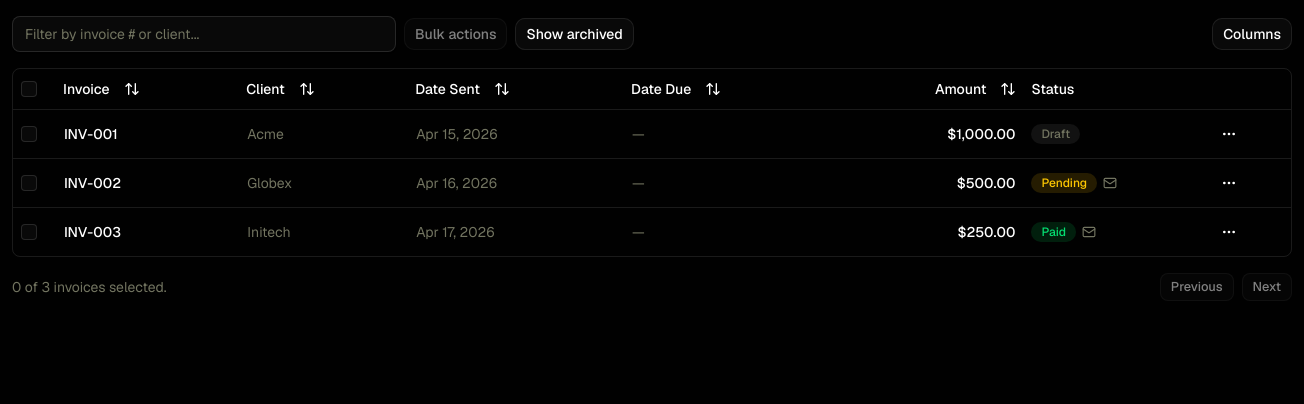
Scenario: InvoiceDataTable — per-row actions › shows 'Edit' and the four publish/send options for draft invoices
The image size is (1304, 404).
# open first row's dropdown (inv-1 is a draft)
Click the button named "open menu" in the row of "INV-001" at [1229, 134], box [1213,118,1245,150]
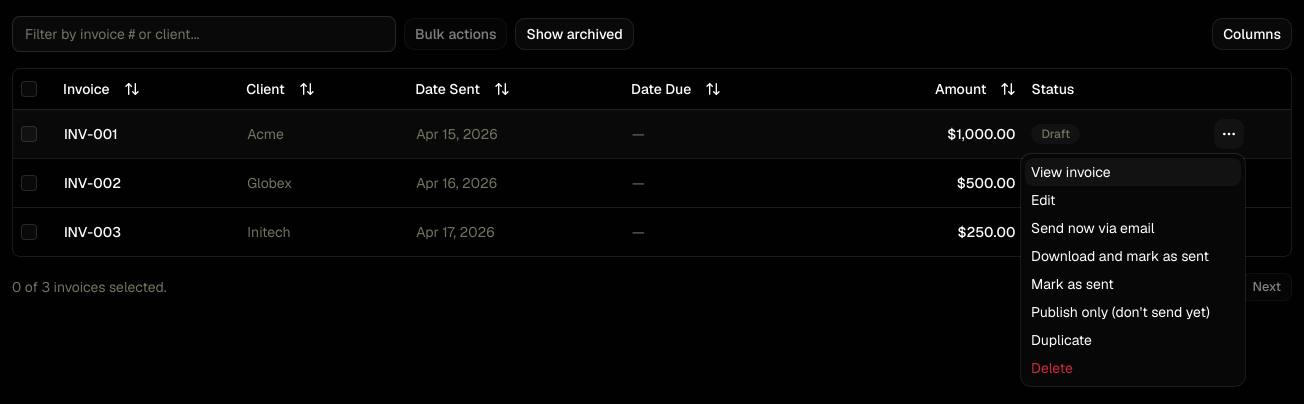
Expected: the menu item "Edit" is shown, [1031,191,1056,209]
Expected: the menu item "Send now via email" is shown, [1031,219,1155,237]
Expected: the menu item "Download and mark as sent" is shown, [1031,247,1209,265]
